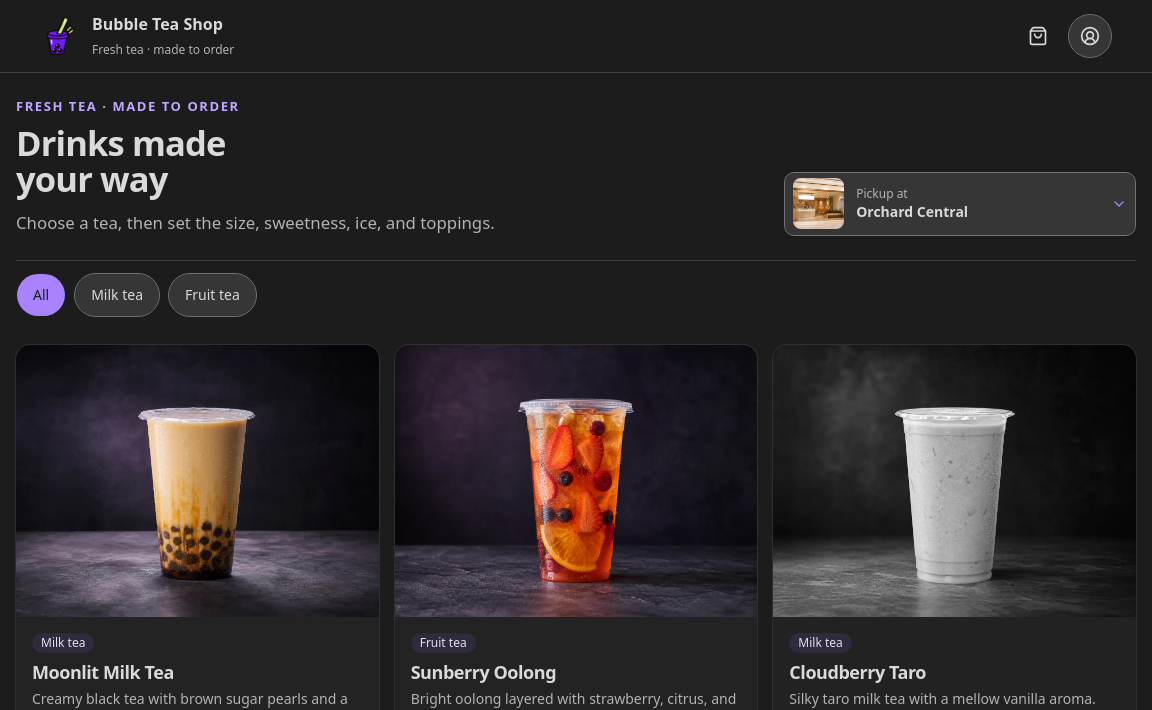
Test case: ShopPage › filters the menu by categories returned by the API
Expected: the heading "Moonlit Milk Tea" is shown, [32,660,174,684]
What coordinates should you click on to do the following:
click the button "Fruit tea"
I would click on:
 (212, 295)
Its box is [168,273,257,317].
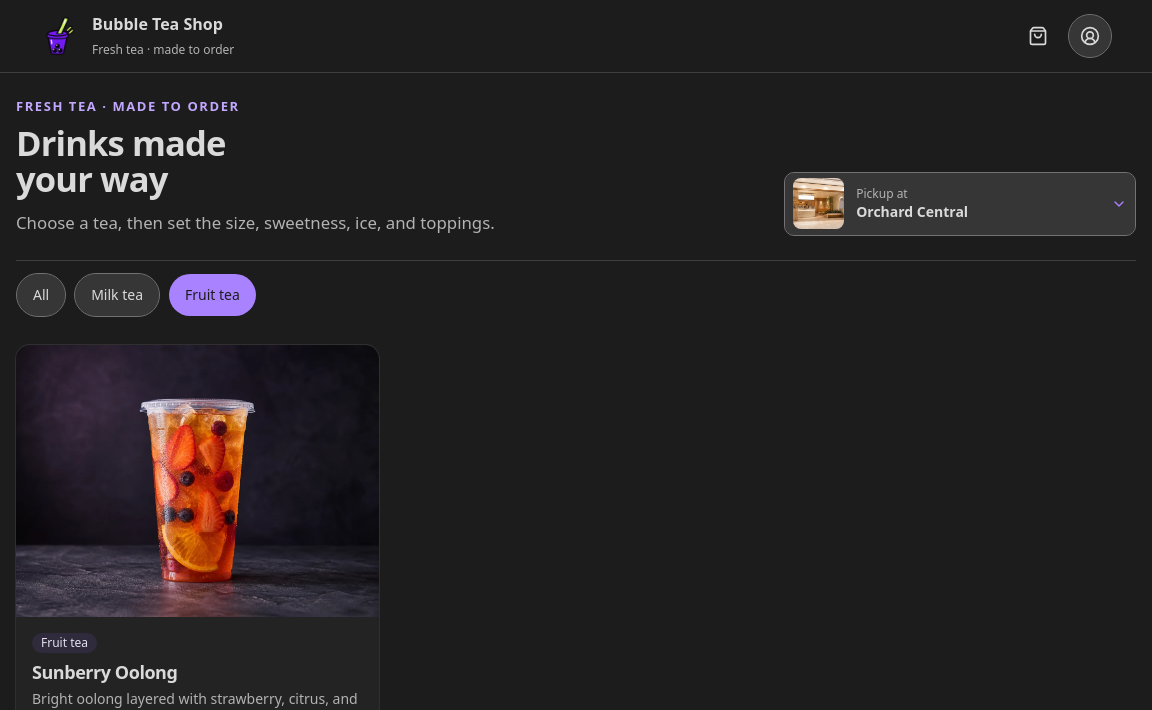
Expected: the heading "Sunberry Oolong" is shown, [32,660,178,684]
Now the heading "Moonlit Milk Tea" is gone
